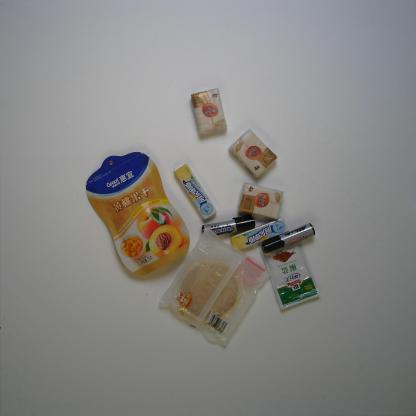Candy: (172, 163, 216, 220), (232, 221, 288, 252)
Dessert: (155, 229, 271, 349)
Dried Fruit: (84, 152, 192, 276)
Seasoner: (262, 243, 319, 310)
Stationery: (261, 223, 314, 254), (200, 214, 257, 238)
Tissue: (229, 131, 276, 178), (190, 87, 227, 137), (239, 182, 283, 221)
